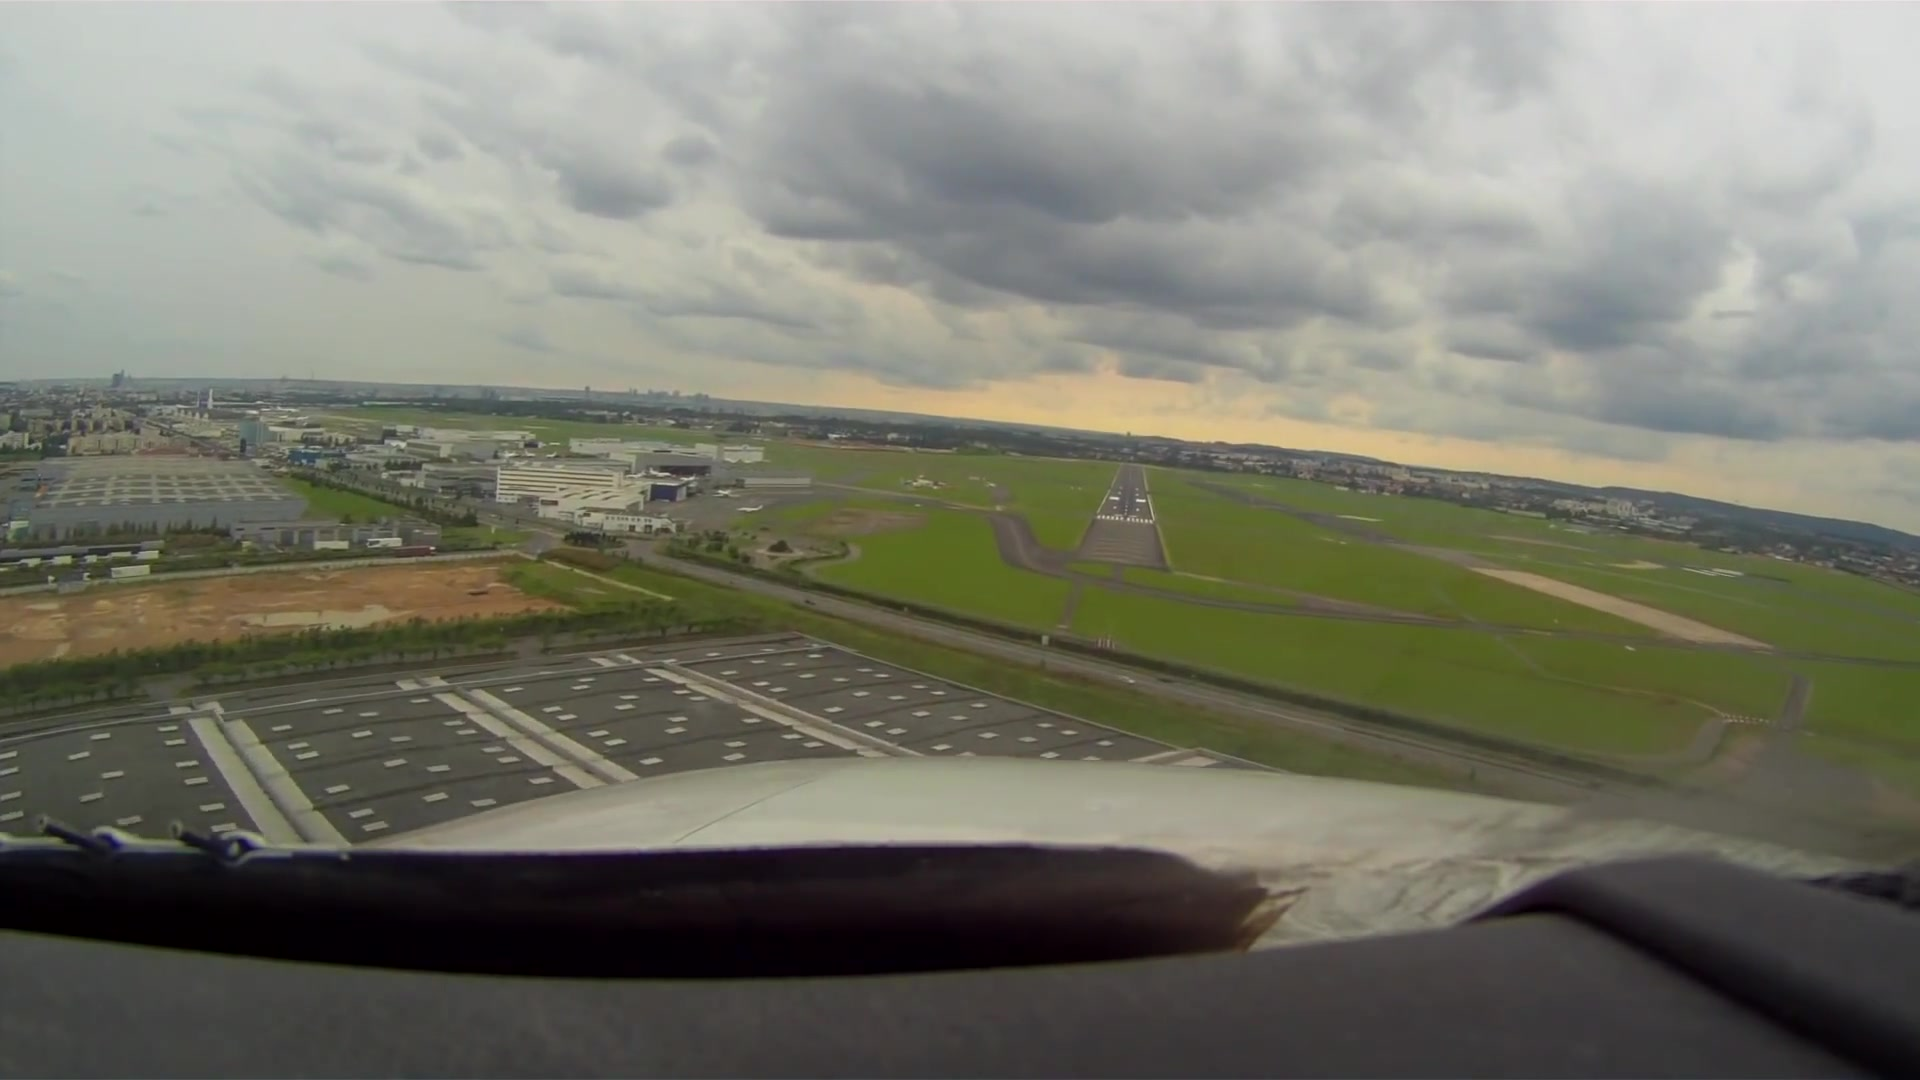entrance: (1097, 512, 1153, 525)
runway: (1091, 459, 1158, 526)
